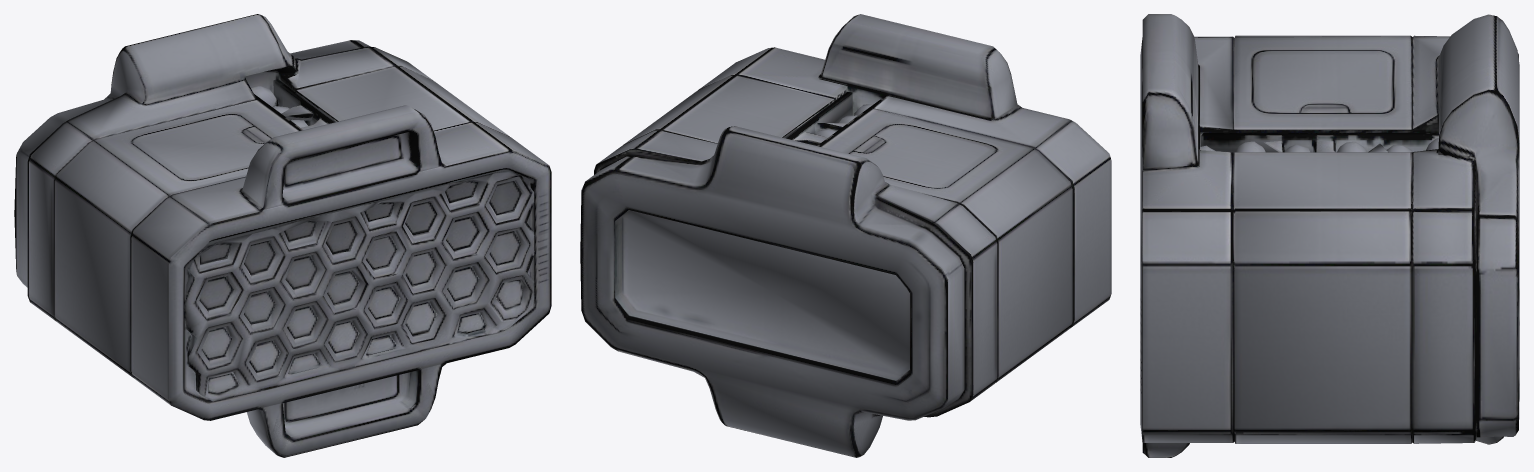
The picture shows the model from 3 angles, left to right: view 1: azimuth 30°, elevation 25°; view 2: azimuth 150°, elevation 25°; view 3: azimuth 270°, elevation 25°; orthographic projection. The views are drawn at different scales.
Parts seen in each view (by area): view 1: tripo_node_2dcf8bdf-357c-4a35-aea1-5e3bc6e980cc; view 2: tripo_node_2dcf8bdf-357c-4a35-aea1-5e3bc6e980cc; view 3: tripo_node_2dcf8bdf-357c-4a35-aea1-5e3bc6e980cc.
Part boxes in pixels (x1,y1,x2,y2): tripo_node_2dcf8bdf-357c-4a35-aea1-5e3bc6e980cc: (14,14,551,457); tripo_node_2dcf8bdf-357c-4a35-aea1-5e3bc6e980cc: (580,14,1111,457); tripo_node_2dcf8bdf-357c-4a35-aea1-5e3bc6e980cc: (1140,14,1519,457).
Size of the model in its own units: 0.1596 by 0.1247 by 0.1168.
Materials: 1 (1 with a texture image).
